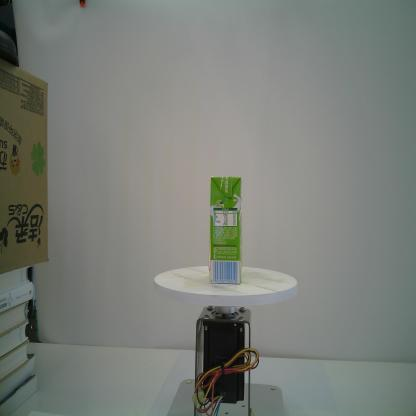Milk: (208, 175, 243, 285)
